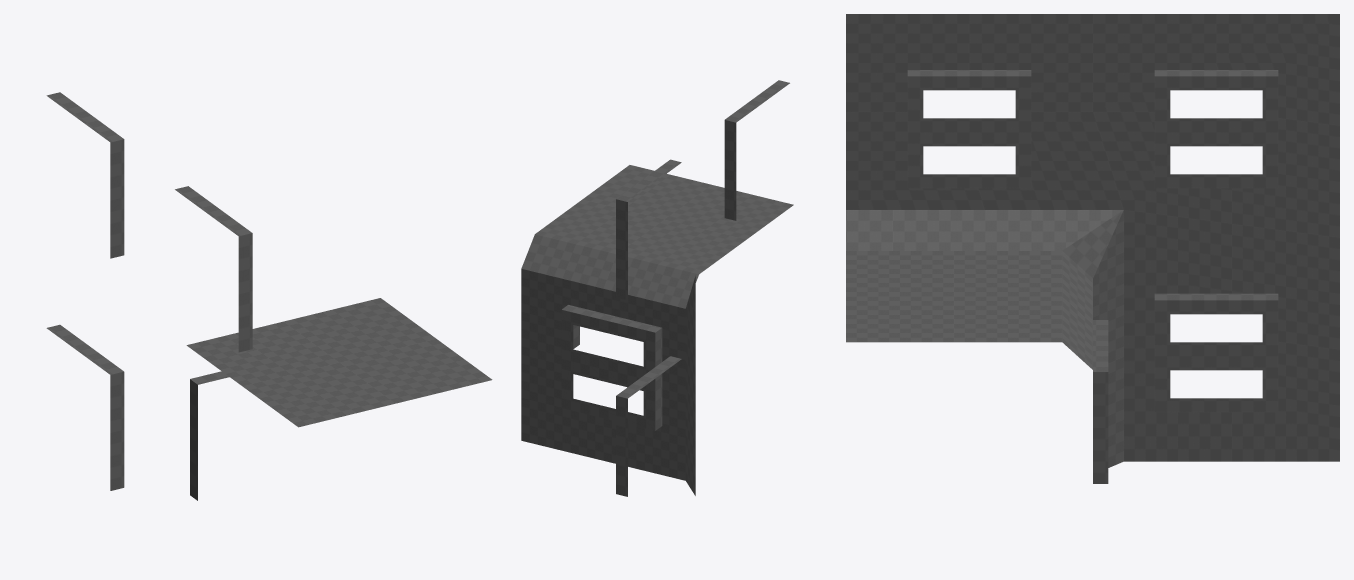
3 views of the same model, side by side, from view 1: azimuth 30°, elevation 25°; view 2: azimuth 150°, elevation 25°; view 3: azimuth 270°, elevation 25° (orthographic). The views are drawn at different scales.
Parts seen in each view (by area): view 1: CubeUpBackRight5V4; view 2: CubeUpBackRight5V4; view 3: CubeUpBackRight5V4.
Part boxes in pixels (<box>): CubeUpBackRight5V4: <box>46,92,492,500</box>; CubeUpBackRight5V4: <box>521,80,793,496</box>; CubeUpBackRight5V4: <box>846,14,1339,483</box>.
Bounding box in the file's own units: 2 × 4 × 4.
1 material, 1 textured.
